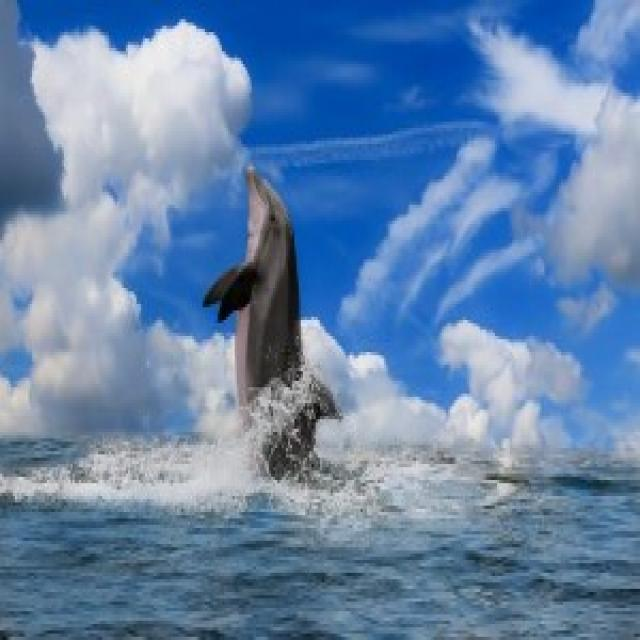Dolphin: (200, 160, 342, 479)
